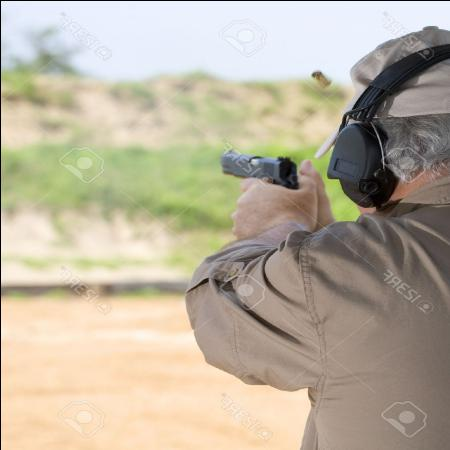Pistol: (213, 144, 306, 190)
